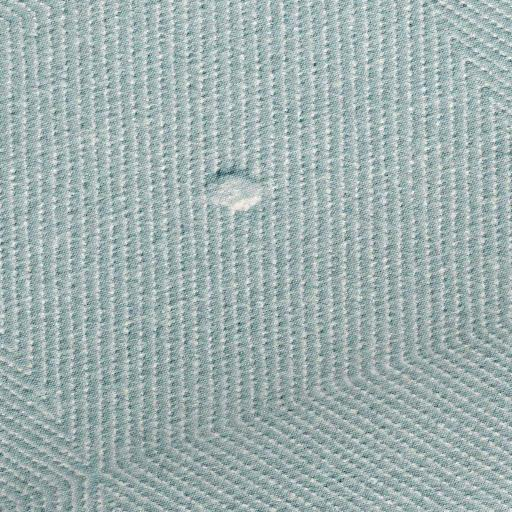knot: (200, 162, 271, 222)
